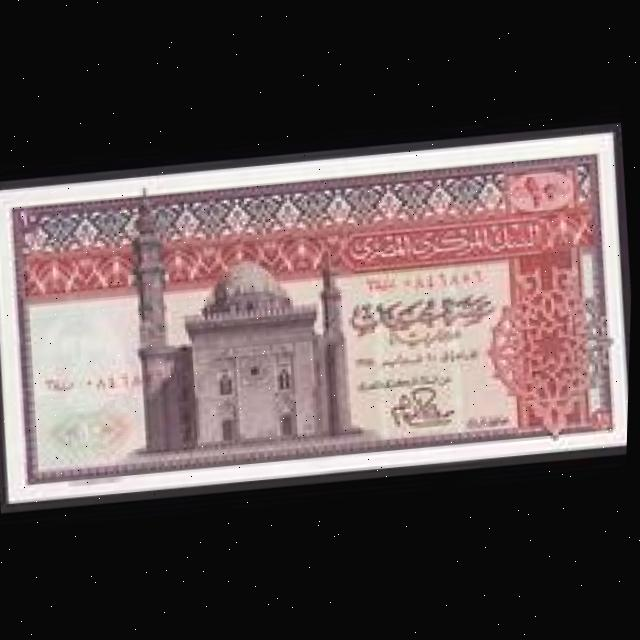banknote: (0, 123, 637, 507)
